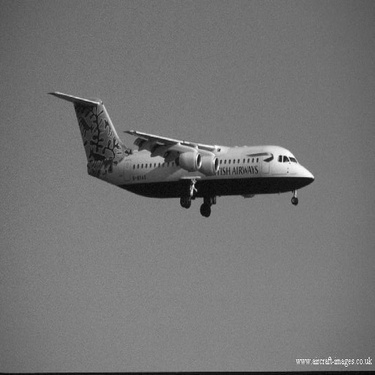airplane: (36, 77, 323, 223)
